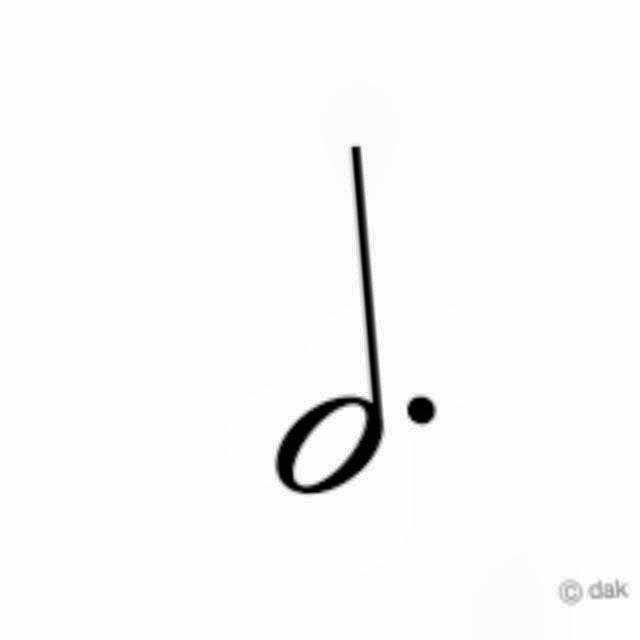Half-dot: (256, 130, 464, 510)
